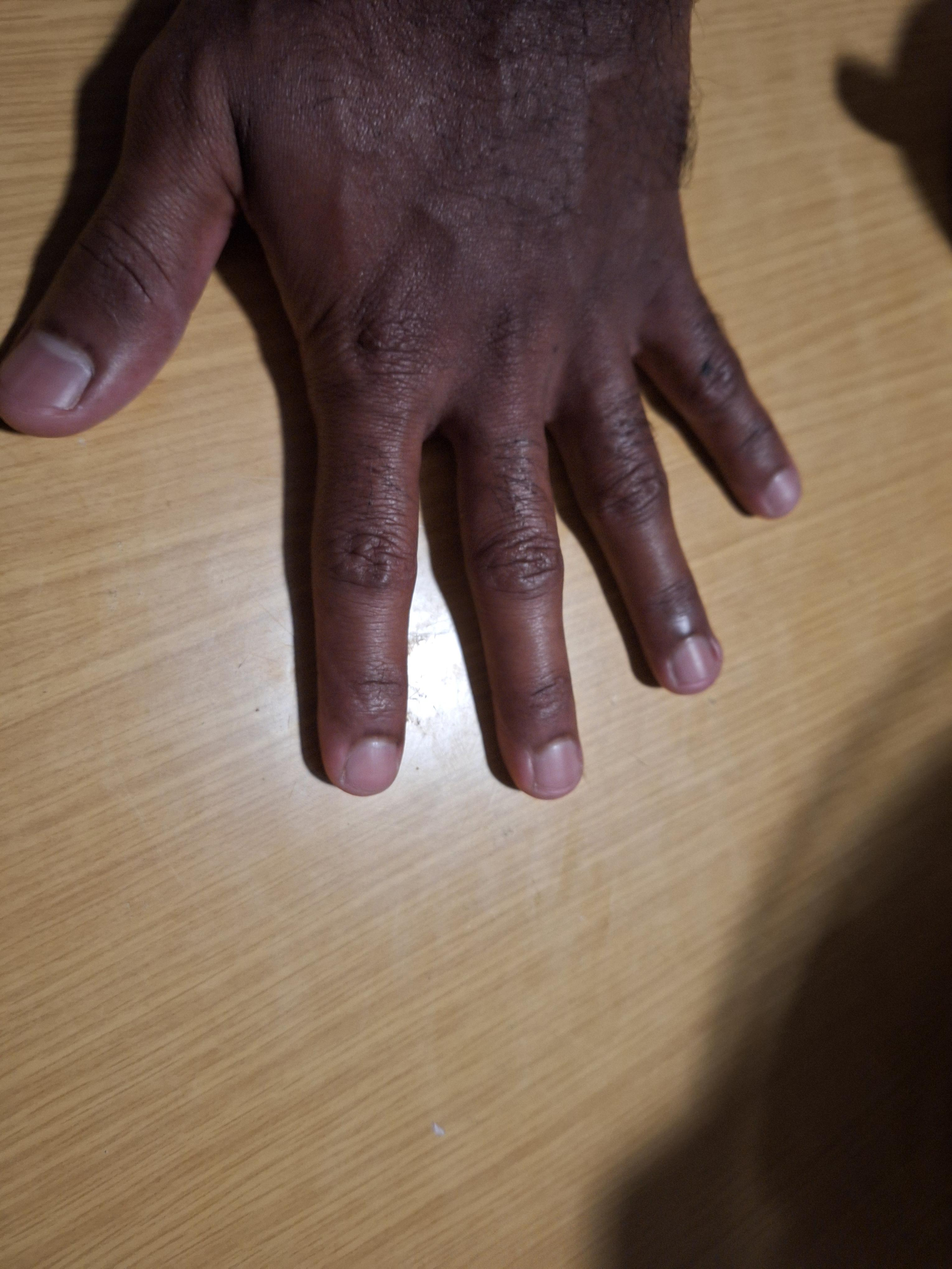Fingernail: (343, 740, 399, 791), (532, 739, 582, 788), (674, 639, 717, 684), (765, 470, 800, 513)
